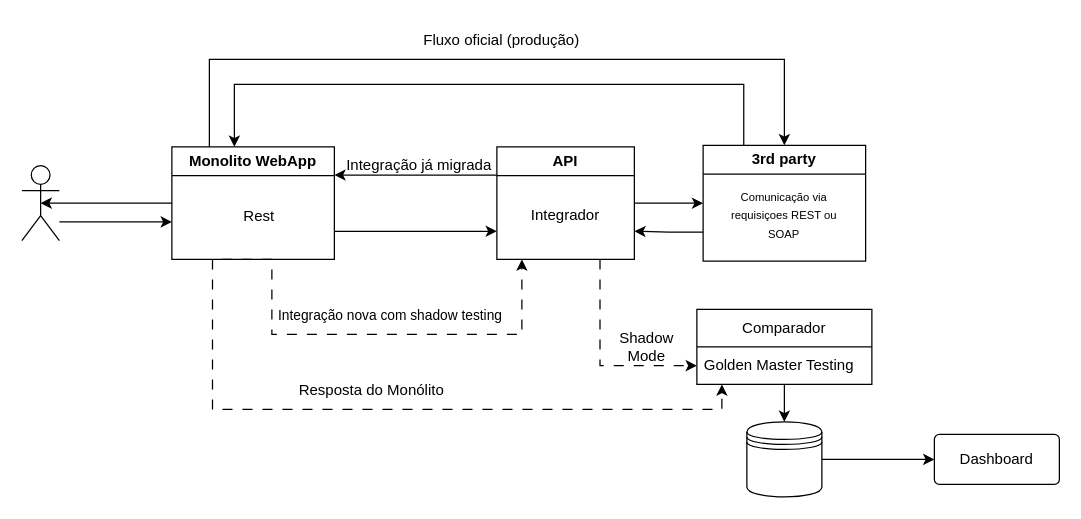
Some shapes in this 1081 by 519 pixel diagram are drawn without their labels. The centre of each missing label's shape, as x and y in pixels:
"Observability Store" belongs at [784,459].
"User" belongs at [40,202].
